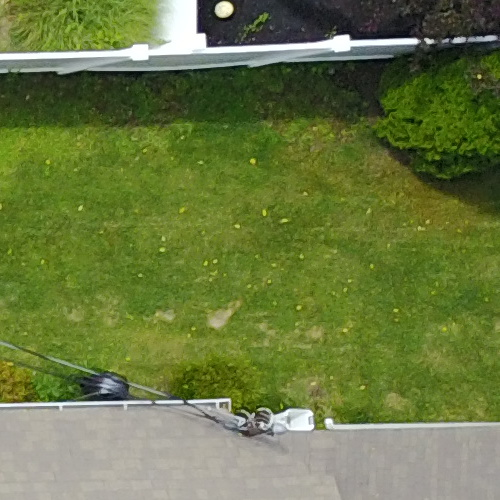container: (264, 396, 331, 440)
